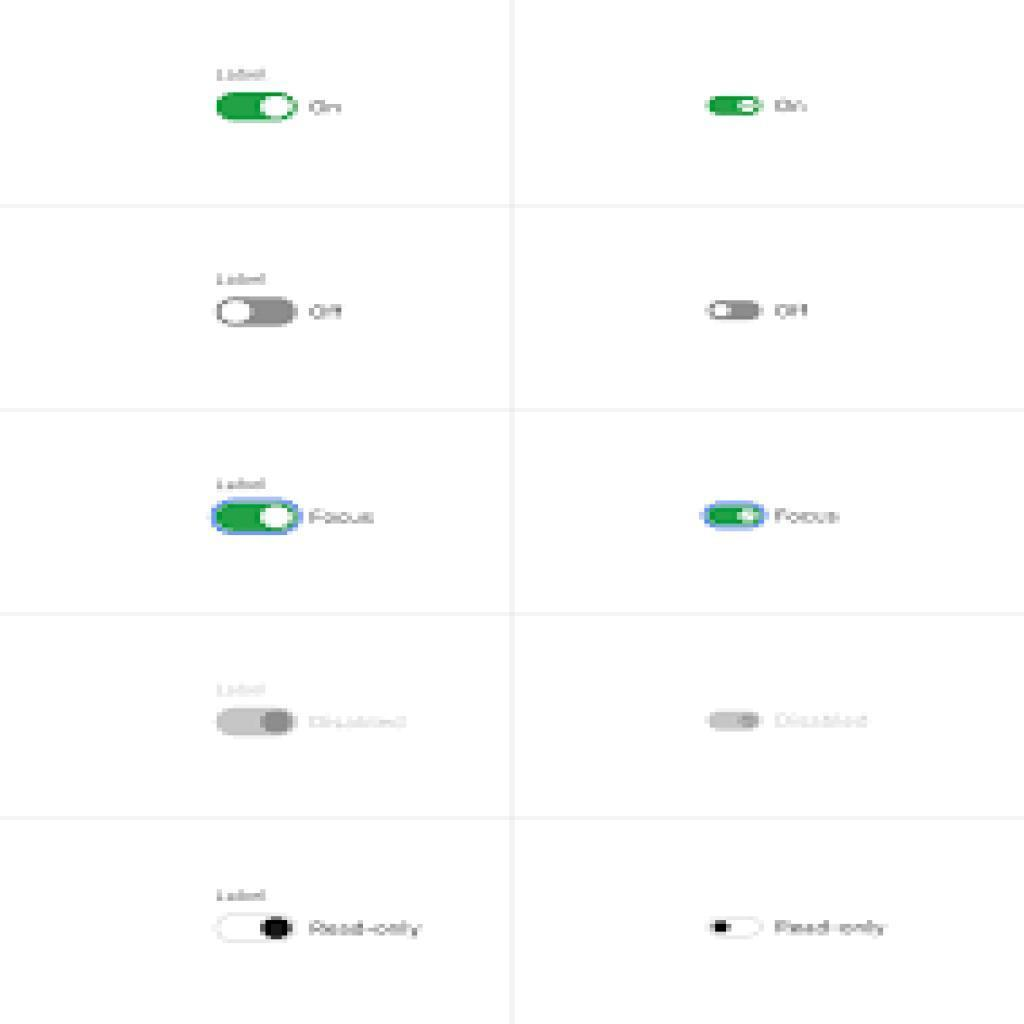switch: (214, 500, 304, 538), (218, 296, 301, 330), (212, 914, 295, 948), (219, 92, 301, 126), (217, 708, 299, 738), (702, 500, 771, 532), (709, 918, 769, 943), (707, 96, 767, 119), (705, 711, 765, 733), (706, 300, 765, 322)
